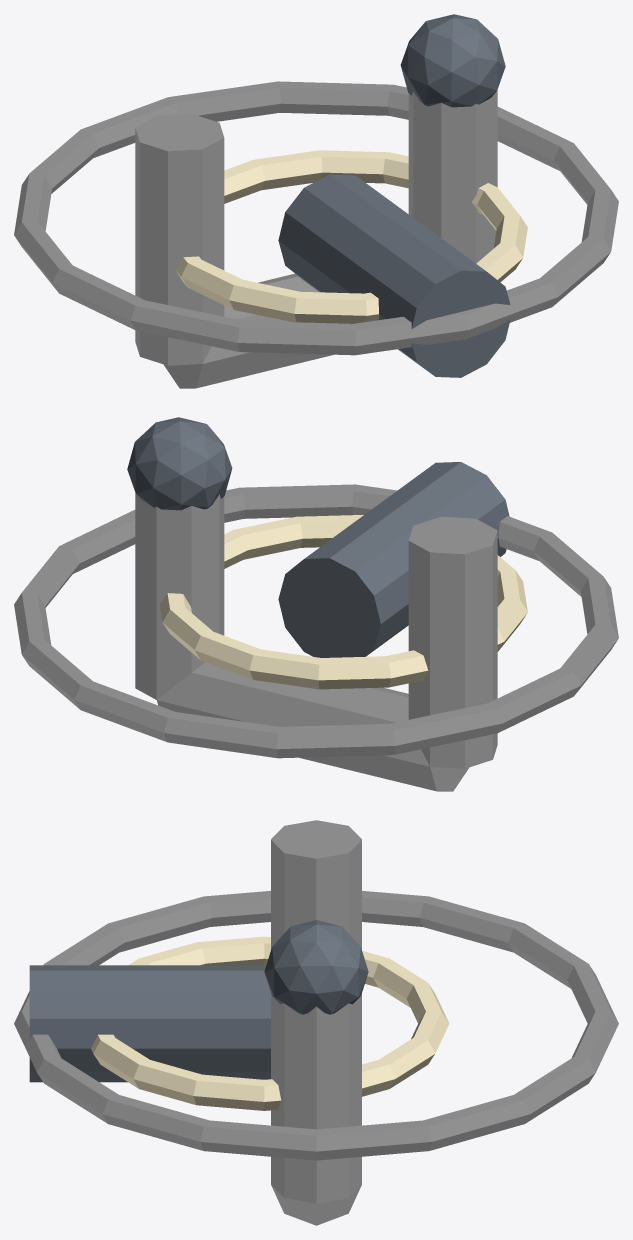
File: iman_7.glb
3 views of the same model, one above another, from view 1: azimuth 30°, elevation 25°; view 2: azimuth 150°, elevation 25°; view 3: azimuth 270°, elevation 25° (orthographic).
Parts seen in each view (by area): view 1: energia, mango, herradura_izq, bobina, herradura_der, polo, herradura_base; view 2: energia, mango, herradura_izq, bobina, herradura_der, herradura_base, polo; view 3: energia, mango, bobina, herradura_der, herradura_izq, polo, herradura_base.
Part boxes in pixels (x1,y1,x2,y2): energia: [14, 81, 618, 355]; mango: [278, 174, 510, 377]; herradura_izq: [135, 113, 224, 365]; bobina: [175, 150, 527, 323]; herradura_der: [408, 90, 497, 263]; polo: [400, 14, 505, 107]; herradura_base: [164, 273, 333, 388]; energia: [14, 484, 618, 758]; mango: [278, 462, 509, 657]; herradura_izq: [408, 516, 497, 768]; bobina: [159, 515, 527, 689]; herradura_der: [135, 493, 224, 699]; herradura_base: [157, 662, 468, 791]; polo: [127, 417, 232, 510]; energia: [14, 890, 618, 1160]; mango: [29, 965, 270, 1082]; bobina: [91, 936, 449, 1110]; herradura_der: [271, 993, 361, 1203]; herradura_izq: [271, 820, 361, 949]; polo: [264, 920, 368, 1014]; herradura_base: [271, 1185, 361, 1225].
Size of the model in its own units: 0.9 by 0.4946 by 0.9.
